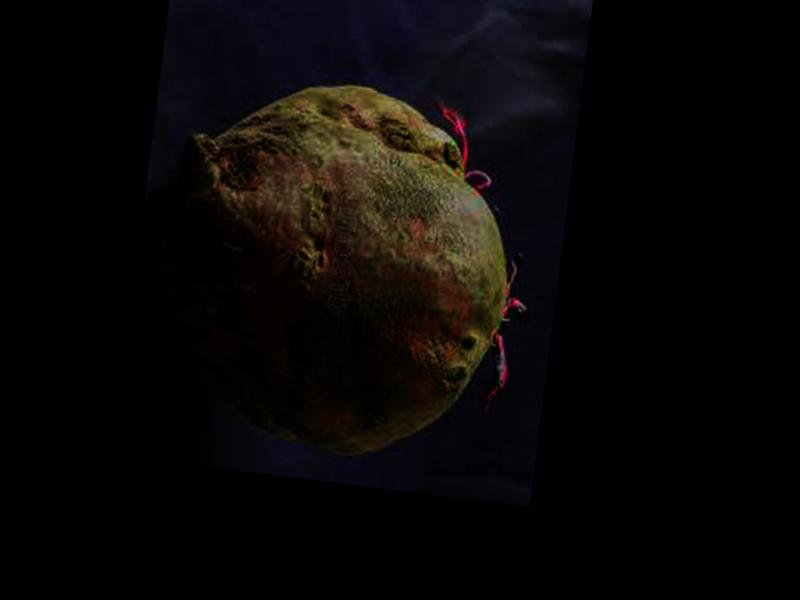Beet: (133, 63, 547, 471)
